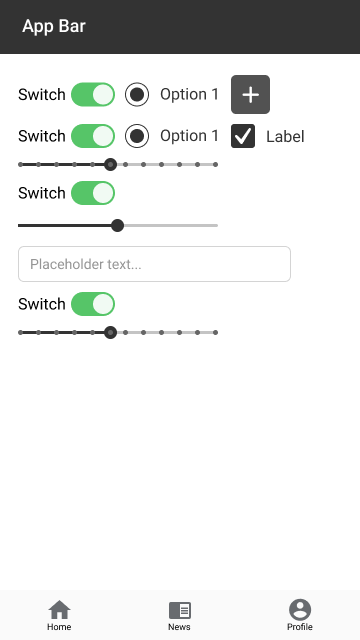buttonIcon: (229, 73, 272, 115)
checkBox: (230, 122, 304, 151)
editText: (18, 242, 295, 283)
navigationButton: (1, 592, 360, 639)
radioButton: (123, 81, 220, 107), (124, 123, 220, 149)
slider: (15, 326, 221, 340), (14, 158, 221, 171)
slider1: (16, 217, 220, 233)
switch: (14, 81, 116, 108), (14, 180, 116, 206), (16, 123, 114, 150), (17, 292, 118, 316)
toolbar: (1, 1, 360, 54)
